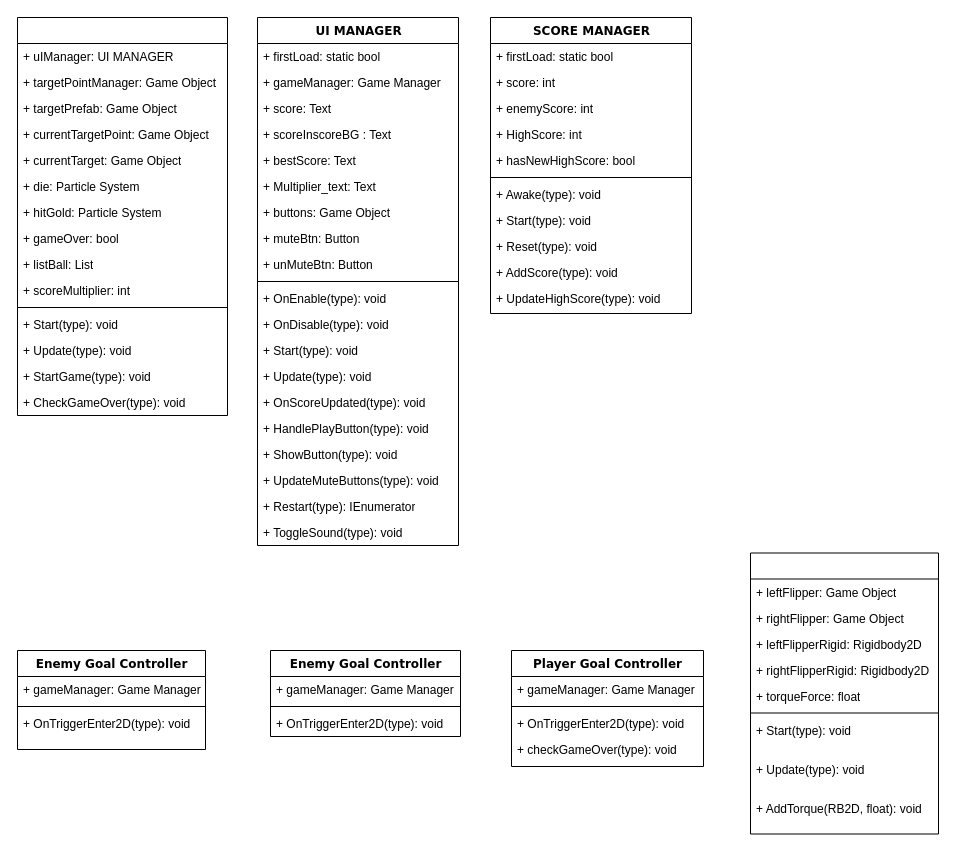
Some shapes in this 956 by 854 pixel diagram are drawn without their labels. The shapes that lost their labels are listed below. From the top down, each one's box as (x1, y1, x2, y2) in pixels, then its label:
(16, 16, 228, 416): GAME MANAGER
(750, 552, 938, 834): Player Controller
